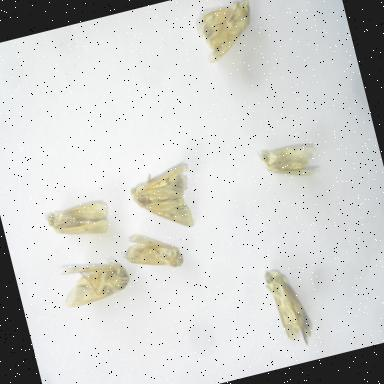abw: (122, 156, 204, 242), (260, 258, 320, 354), (52, 244, 136, 312), (189, 0, 264, 68), (38, 191, 118, 250), (116, 220, 188, 283), (252, 130, 326, 190)
